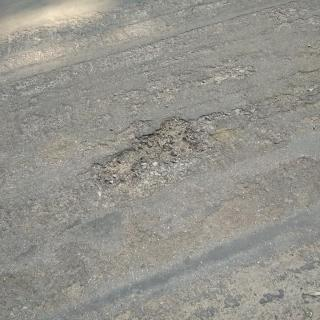pothole: (90, 110, 231, 210)
